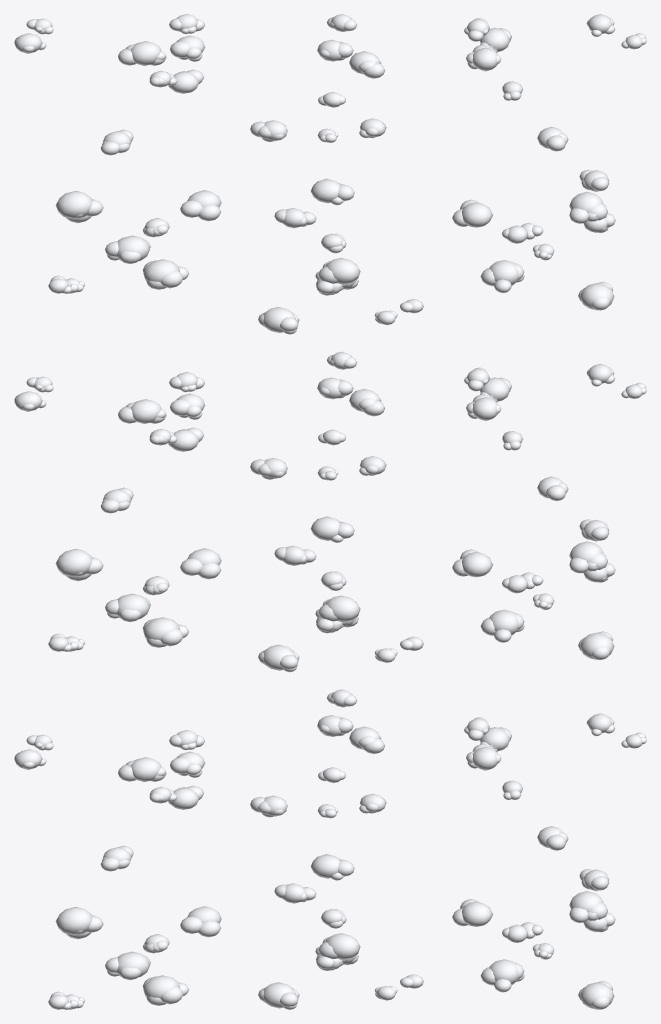
Rendered from CloudLayer1.obj.
The picture shows the model from 3 angles, left to right: view 1: azimuth 30°, elevation 25°; view 2: azimuth 150°, elevation 25°; view 3: azimuth 270°, elevation 25°; orthographic projection. The views are drawn at different scales.
Parts seen in each view (by area): view 1: CloudLayer1; view 2: CloudLayer1; view 3: CloudLayer1.
Boxes of the visible parts, <box> form: CloudLayer1: <box>14,14,221,1009</box>; CloudLayer1: <box>250,14,423,1009</box>; CloudLayer1: <box>452,14,646,1009</box>.
Bounding box in the file's own units: 78.3 × 450 × 80.8.
Materials: 1 (1 with a texture image).
